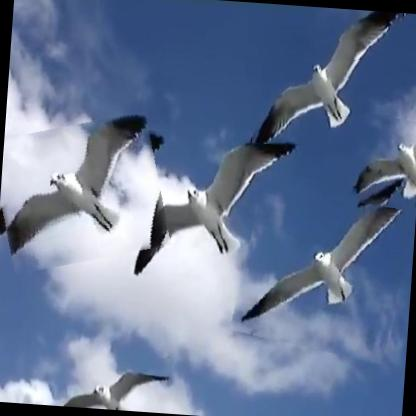bird: (234, 173, 414, 361), (0, 111, 172, 276), (128, 129, 299, 290), (248, 3, 409, 151), (49, 354, 174, 414), (357, 114, 416, 208)
